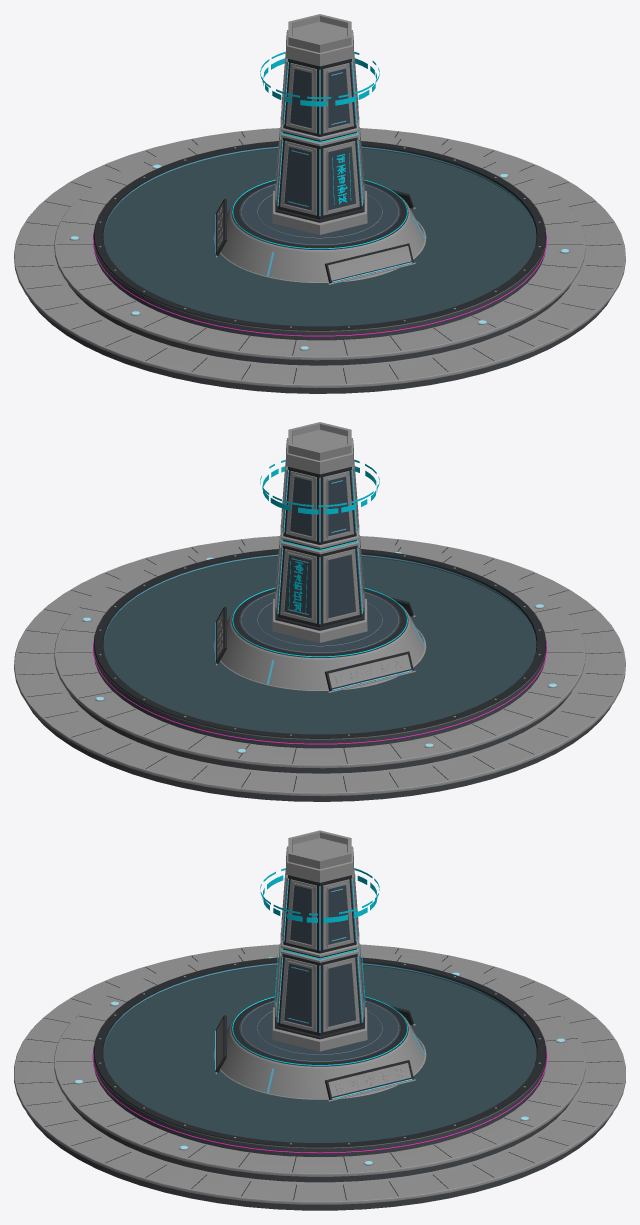
File: Monument_Base.fbx
3 views of the same model, one above another, from view 1: azimuth 30°, elevation 25°; view 2: azimuth 150°, elevation 25°; view 3: azimuth 270°, elevation 25° (orthographic).
Parts seen in each view (by area): view 1: Monument_Base_LOD0; view 2: Monument_Base_LOD0; view 3: Monument_Base_LOD0.
Part boxes in pixels (x1,y1,x2,y2): Monument_Base_LOD0: [14, 14, 625, 393]; Monument_Base_LOD0: [14, 422, 625, 801]; Monument_Base_LOD0: [14, 830, 625, 1210].
Size of what is drawn, in the model's own units: 15.18 by 6.5 by 15.18.
